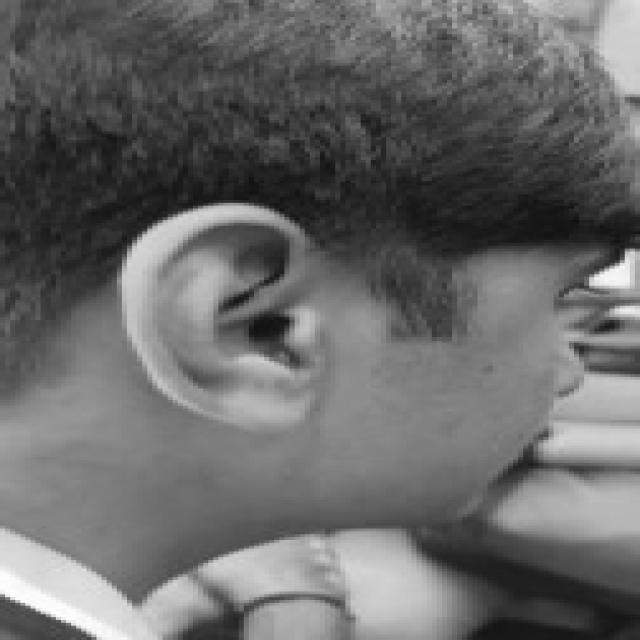ear: (122, 200, 310, 426)
